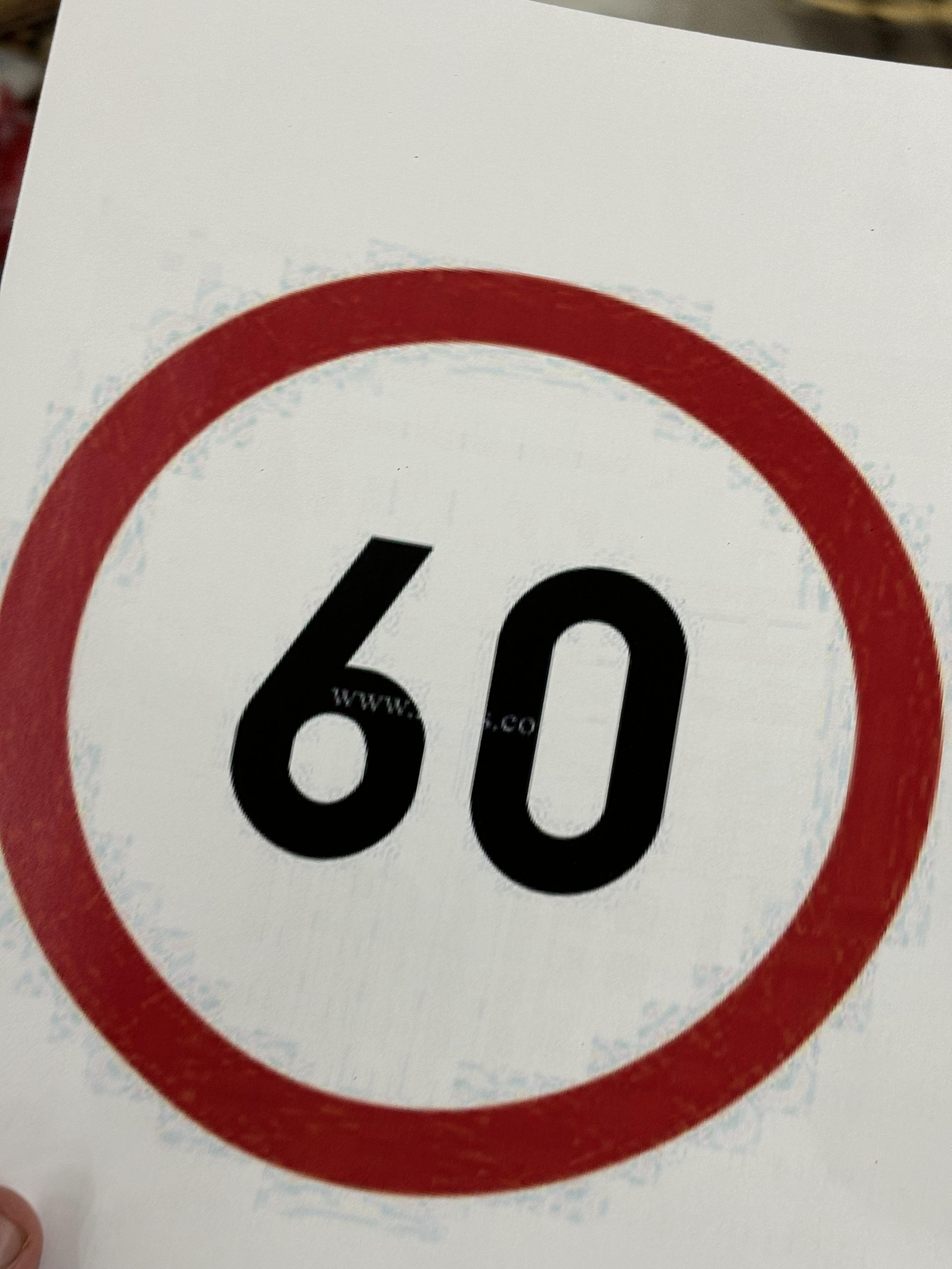60-Speed: (0, 259, 952, 1188)
